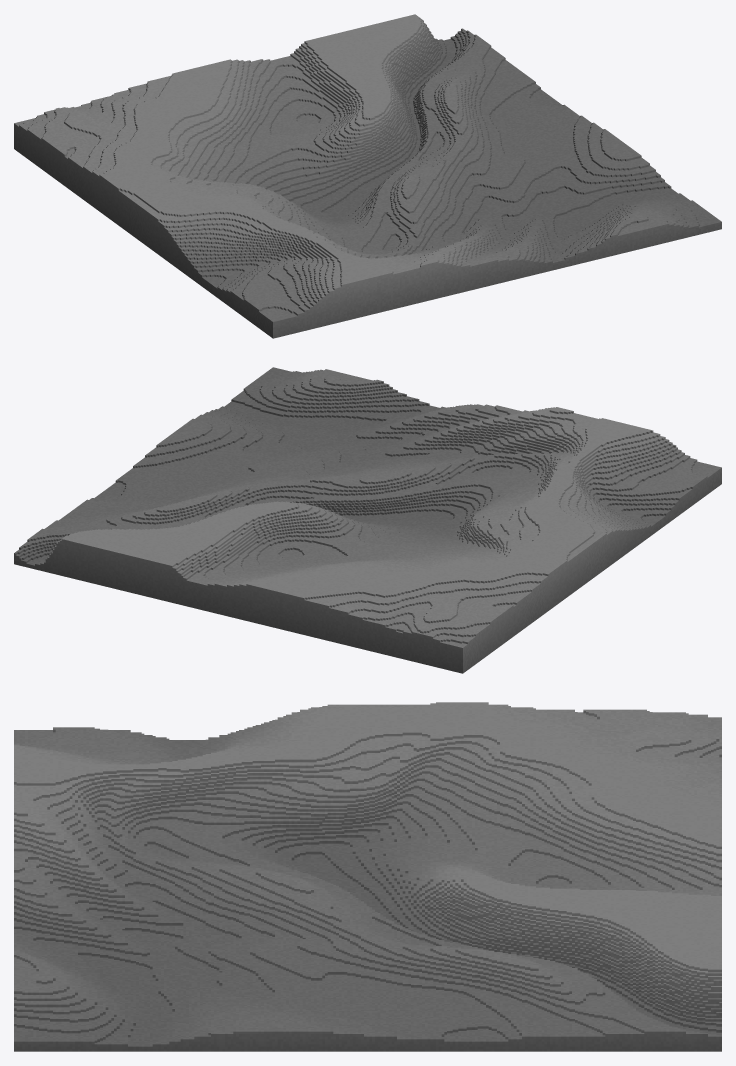
The model's file is LunaGrande-2.obj.
The picture shows the model from 3 angles, top to bottom: view 1: azimuth 30°, elevation 25°; view 2: azimuth 150°, elevation 25°; view 3: azimuth 270°, elevation 25°; orthographic projection. The views are drawn at different scales.
Size of the model in its own units: 25.5 by 2 by 25.5.
Materials: 1 (1 with a texture image).
